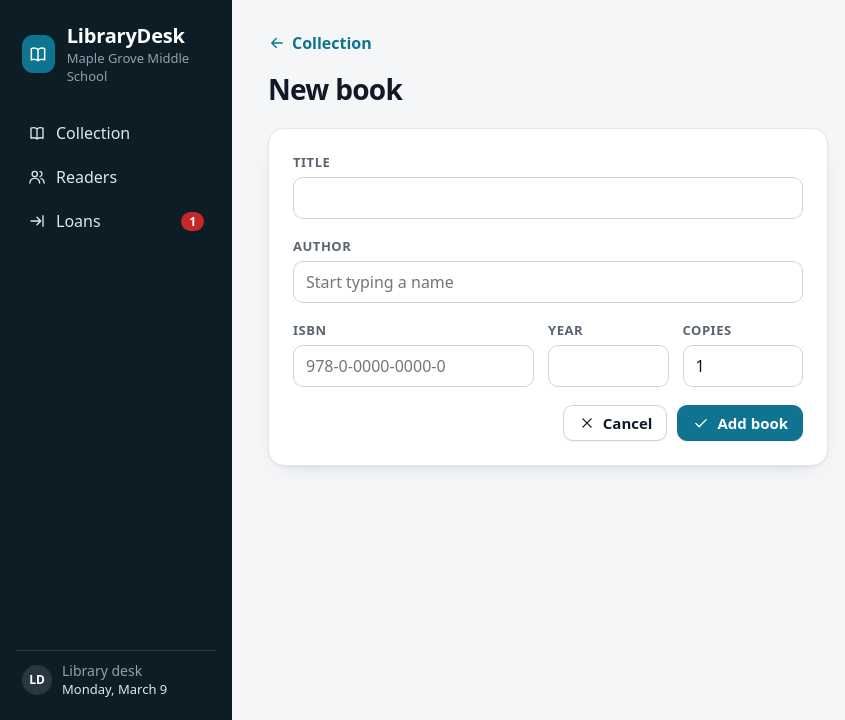
Test case: a new book › puts the dashes in the ISBN as it is typed, and takes only digits
The image size is (845, 720).
Expected: the navigation bar named "Main" is shown, [16, 113, 216, 241]
Type "9780a306 40615 7999" into the field labelled "ISBN". click: coordinates (414, 366)
box: [293, 345, 534, 387]
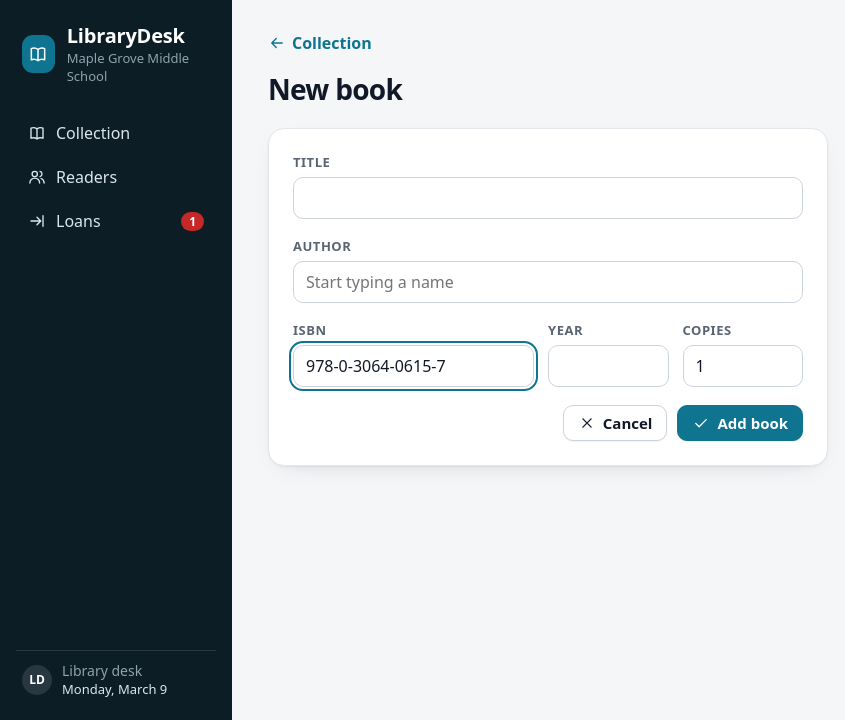
Expected: the field labelled "ISBN" holds "978-0-3064-0615-7", [293, 345, 534, 387]
